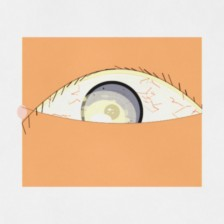corneal_ulcer: (72, 91, 138, 144)
